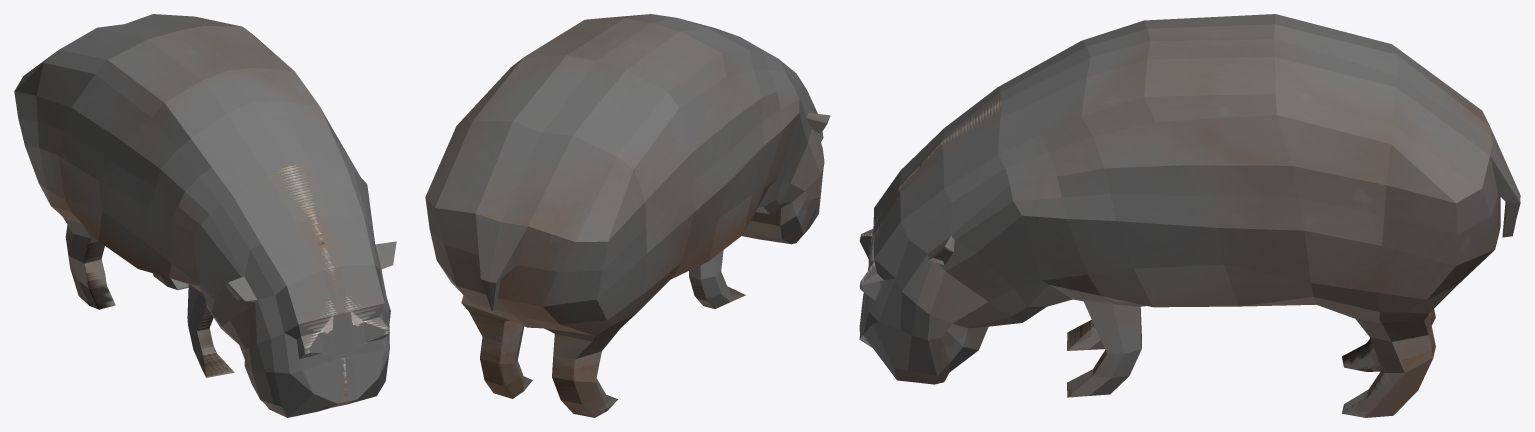
File: kaba.fbx
3 renders of one model, left to right at view 1: azimuth 30°, elevation 25°; view 2: azimuth 150°, elevation 25°; view 3: azimuth 270°, elevation 25°, orthographic. The views are drawn at different scales.
Parts seen in each view (by area): view 1: kaba; view 2: kaba; view 3: kaba.
Boxes of the visible parts, x1,y1,x2,y2 form: kaba: (14,14,396,417); kaba: (425,14,830,417); kaba: (859,14,1520,417).
Bounding box in the file's own units: 5.64 × 7.46 × 12.75.
1 material, 1 textured.
